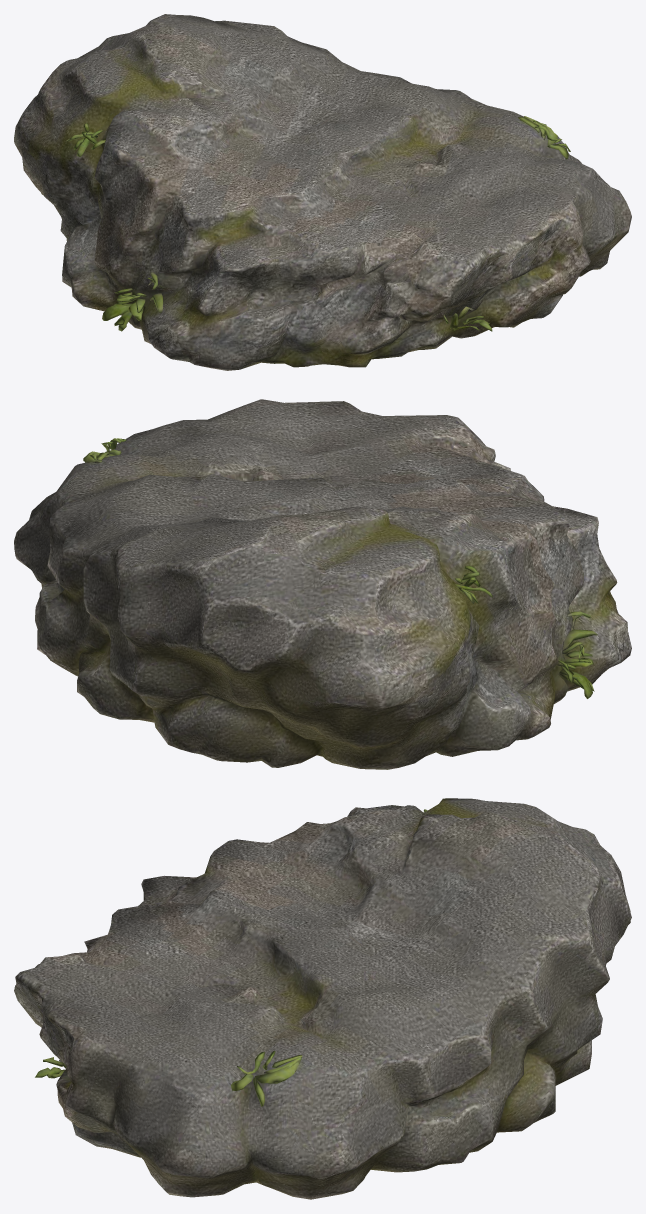
Rendered from prop_da_nam.c4533ce197.glb.
The picture shows the model from 3 angles, top to bottom: view 1: azimuth 30°, elevation 25°; view 2: azimuth 150°, elevation 25°; view 3: azimuth 270°, elevation 25°; orthographic projection. The views are drawn at different scales.
Visible parts, largest first — view 1: prop_da_nam; view 2: prop_da_nam; view 3: prop_da_nam.
Boxes of the visible parts, x1,y1,x2,y2 form: prop_da_nam: [14, 14, 631, 370]; prop_da_nam: [14, 399, 631, 769]; prop_da_nam: [14, 798, 631, 1199].
Size of what is drawn, in the model's own units: 4 by 1.54 by 4.
1 material, 1 textured.
